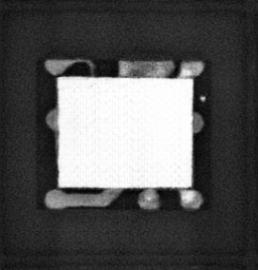DIE_INK: (198, 93, 208, 102)
